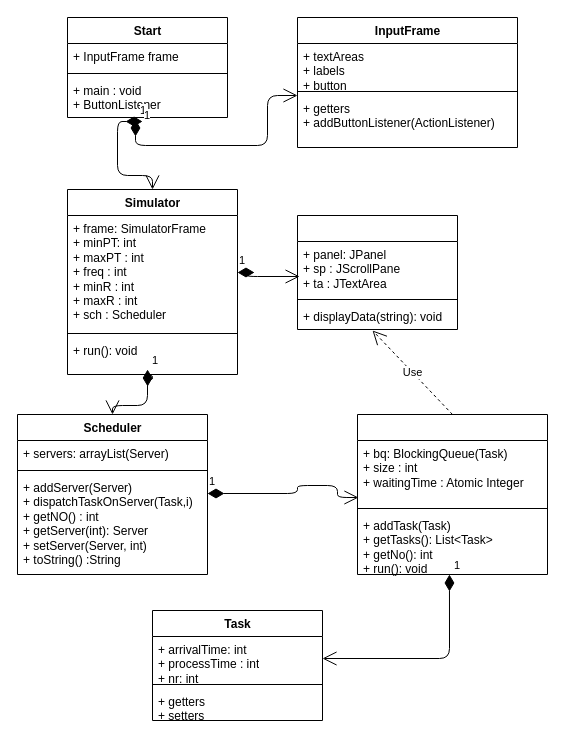
The diagram is 565 pixels wide and 741 high, and some of its shapes have lost their labels. The box of each missing label's shape, as (x1, y1, x2, y2) in pixels:
Server: (356, 414, 548, 574)
SimuationFrame: (296, 214, 458, 330)
